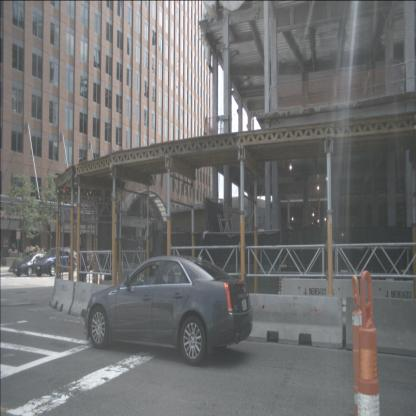movable_object-barrier: (234, 292, 344, 350), (346, 294, 416, 359), (71, 281, 127, 322), (50, 278, 74, 314)
movable_object-trafficcone: (361, 269, 380, 416), (351, 273, 362, 416)
vehicle-car: (84, 254, 253, 366), (33, 247, 76, 277), (13, 253, 50, 277)
